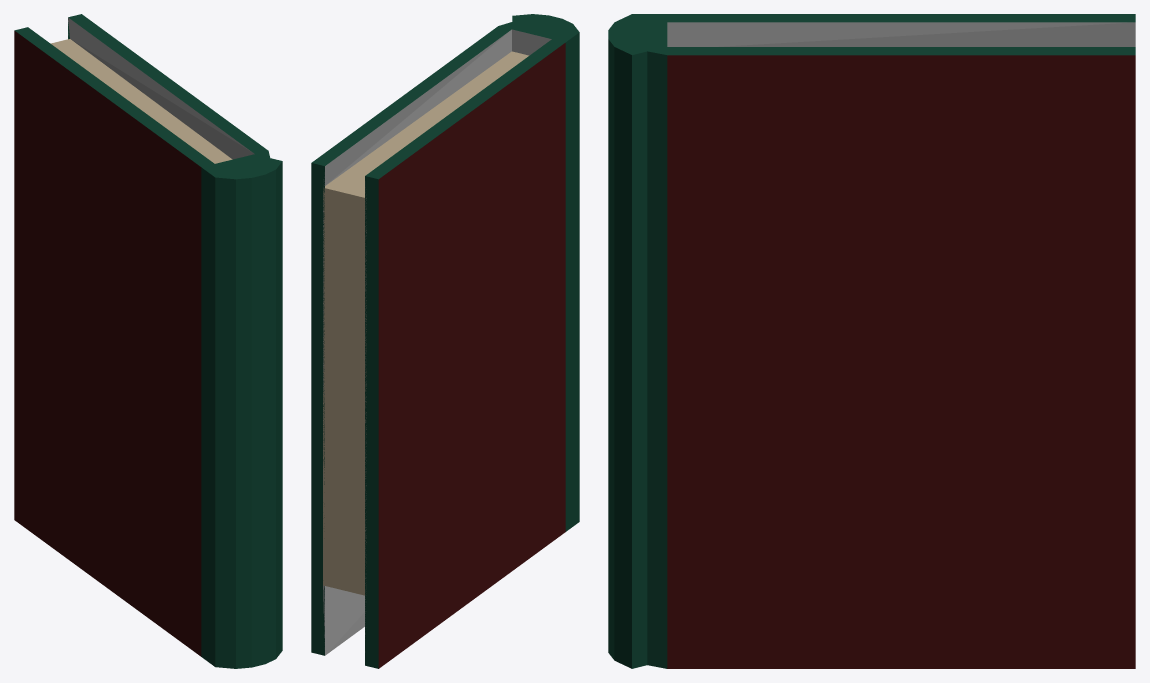
The model's file is close_book.fbx.
3 renders of one model, left to right at view 1: azimuth 30°, elevation 25°; view 2: azimuth 150°, elevation 25°; view 3: azimuth 270°, elevation 25°, orthographic. The views are drawn at different scales.
Parts seen in each view (by area): view 1: pCube2; view 2: pCube2; view 3: pCube2.
Part boxes in pixels (x1=…): pCube2: x1=14, y1=14, x2=282, y2=668; pCube2: x1=311, y1=14, x2=579, y2=668; pCube2: x1=608, y1=14, x2=1135, y2=668.
Size of the model in its own units: 0.2137 by 1.48 by 1.16.
